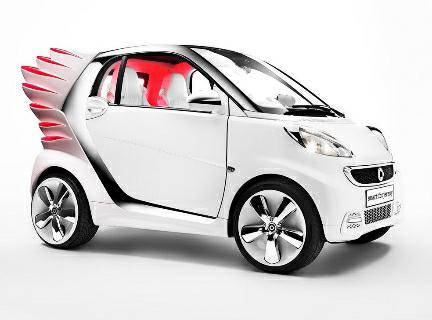smart-forjeremy: (24, 42, 406, 273)
